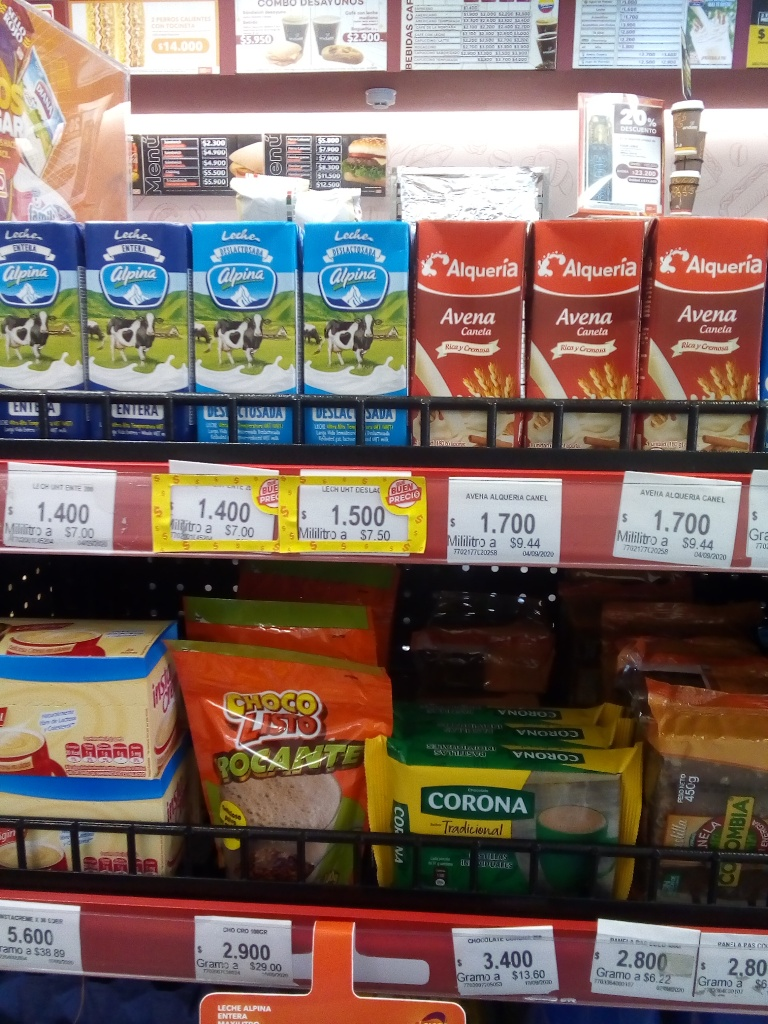COL0170102DYP10000: (163, 631, 393, 885)
